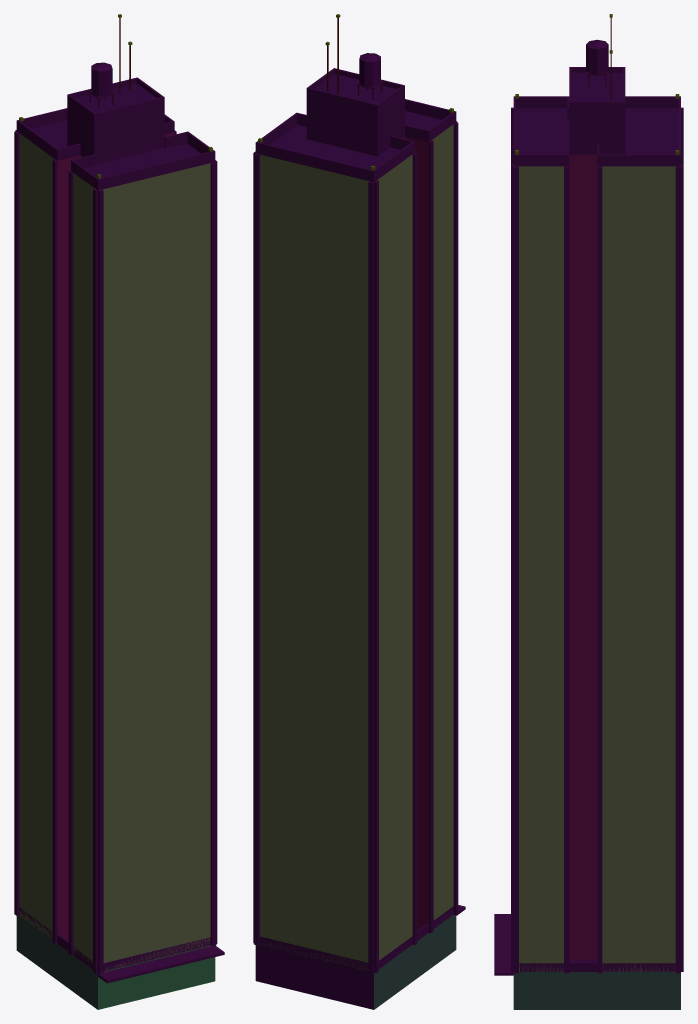
The model's file is restower_d.lod1.glb.
3 renders of one model, left to right at view 1: azimuth 30°, elevation 25°; view 2: azimuth 150°, elevation 25°; view 3: azimuth 270°, elevation 25°, orthographic. The views are drawn at different scales.
Parts seen in each view (by area): view 1: restower_d.lod1; view 2: restower_d.lod1; view 3: restower_d.lod1.
Boxes of the visible parts, box(x1,y1,x2,y2) form: restower_d.lod1: box(14, 14, 224, 1009); restower_d.lod1: box(253, 14, 465, 1009); restower_d.lod1: box(494, 14, 683, 1009).
Size of the model in its own units: 16.6 by 123 by 21.69.
